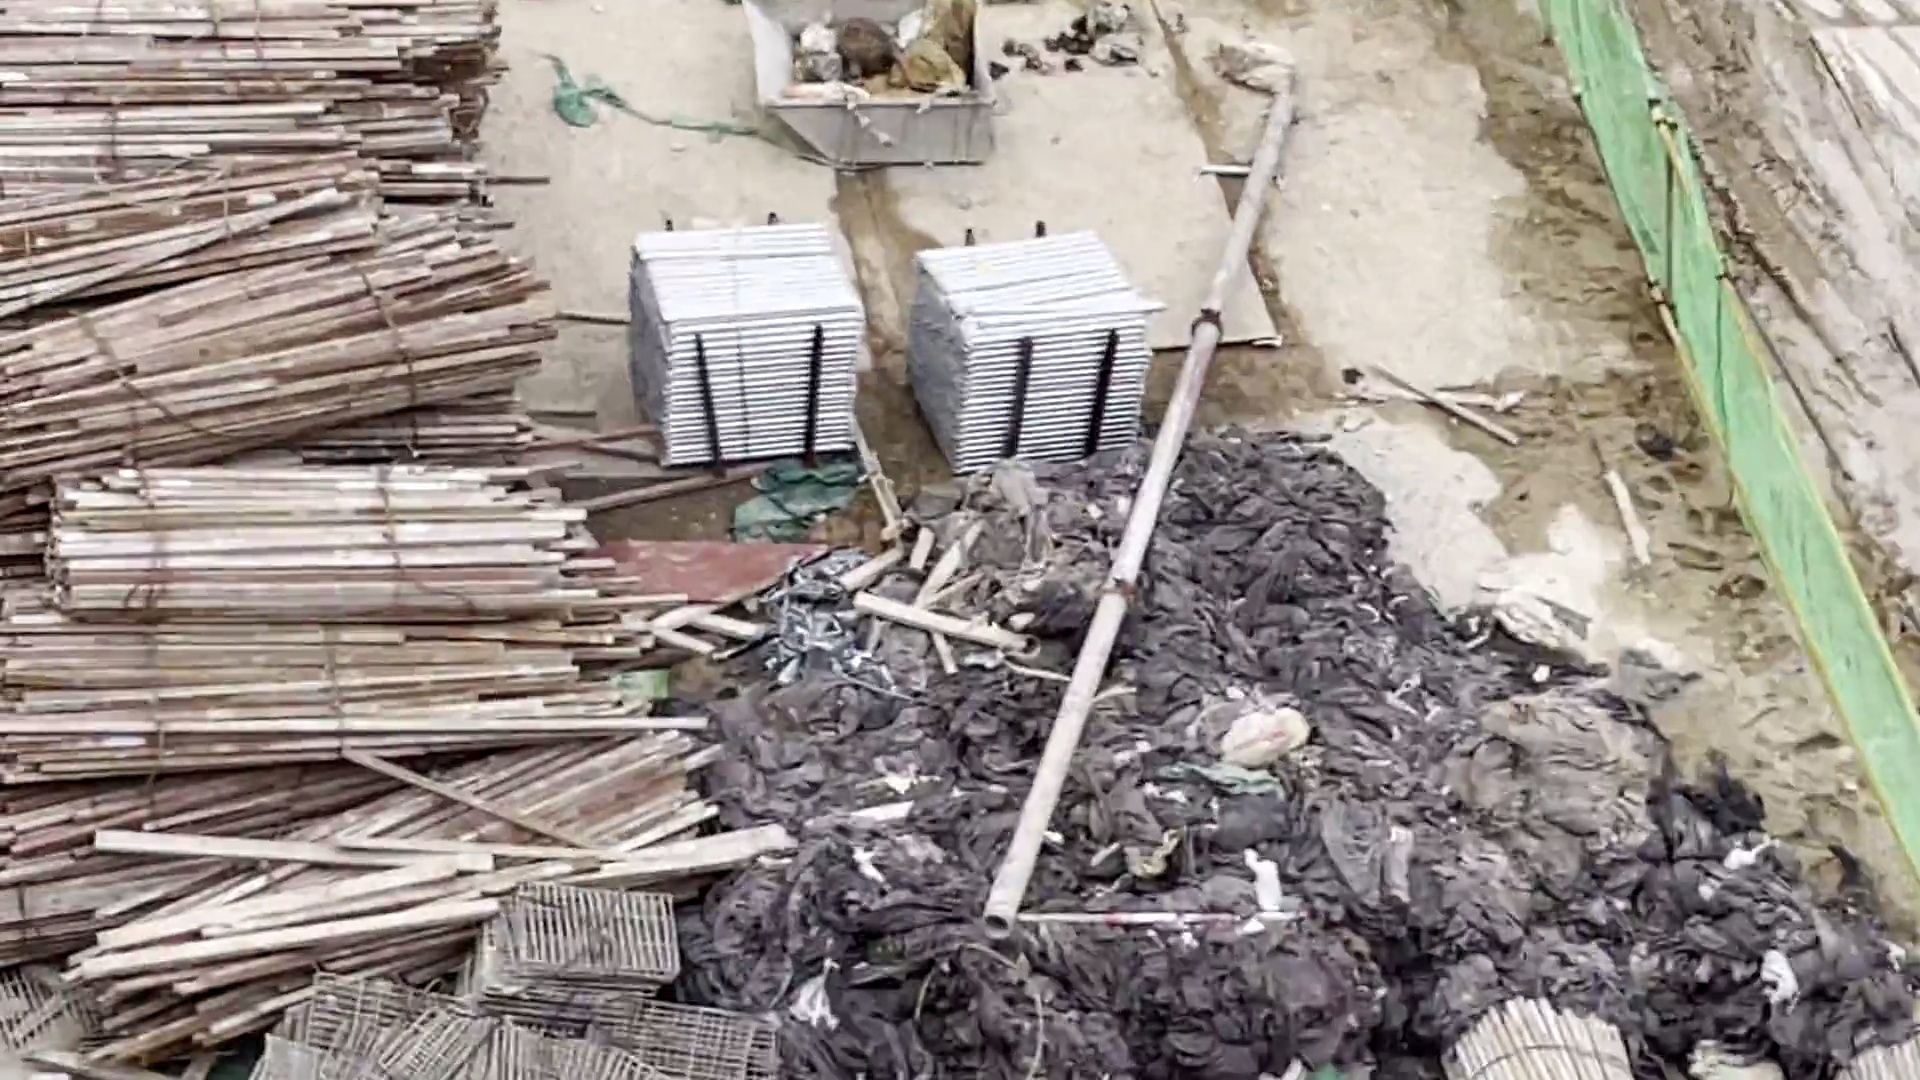hopper: (717, 1, 1015, 169)
scaffold: (618, 208, 1175, 488)
wood: (1, 4, 622, 1007)
